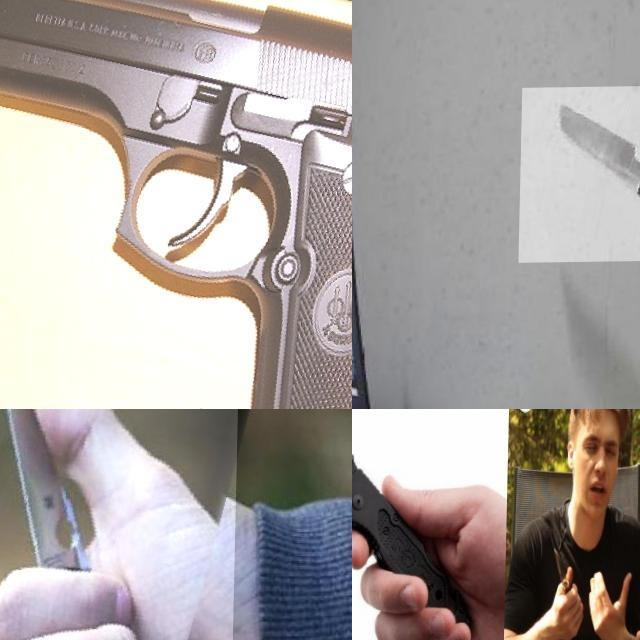-: (0, 409, 240, 640), (520, 85, 640, 263), (352, 409, 450, 617), (549, 542, 588, 624), (415, 409, 475, 428)
gun-knife-thesis - v11 Yolov5 augmented: (0, 0, 352, 409)
